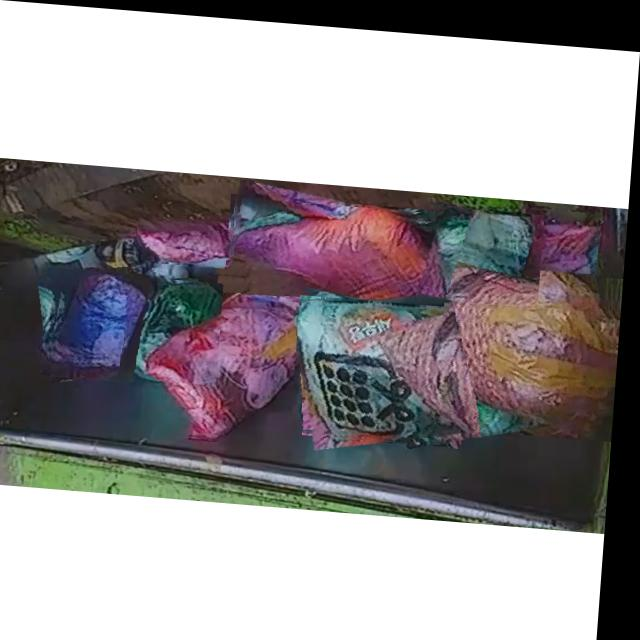general_trashbag: (302, 294, 455, 431), (425, 202, 543, 293), (125, 278, 226, 377)
other_trashbag: (387, 253, 618, 413), (152, 268, 329, 435), (233, 201, 447, 317), (54, 270, 138, 377), (526, 198, 601, 262), (142, 225, 233, 259)
